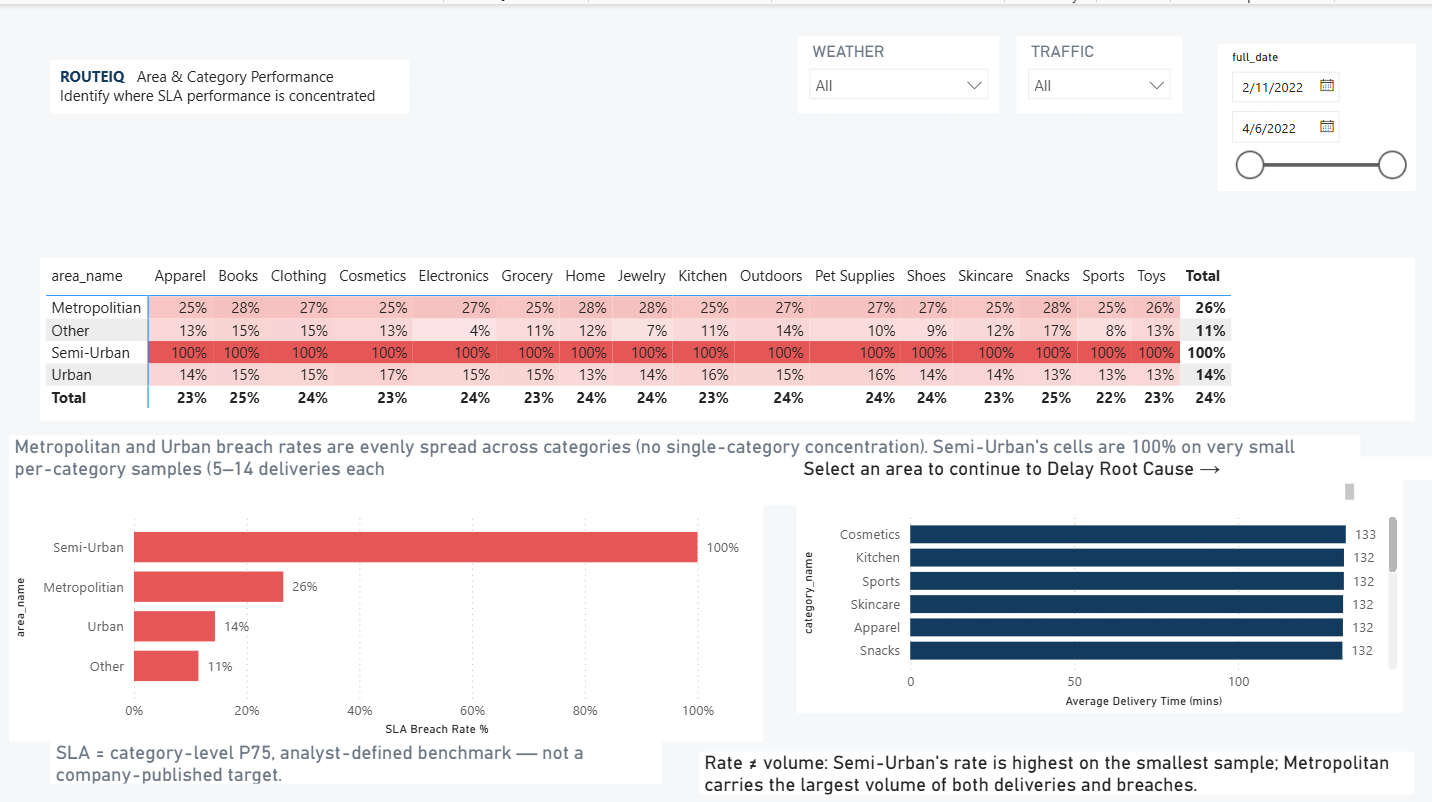

This screenshot's page, from the dashboard's own definition file:
{"tool":"powerbi","page":{"name":"Area & Category ","canvas":[1280,720],"ordinal":1},"visuals":[{"type":"textbox","box":[45.3,50,320.9,47.7],"z":0},{"type":"slicer","fields":{"Values":["DimWeatherTraffic.weather"]},"box":[714,29.1,180.2,68.6],"z":1000},{"type":"slicer","fields":{"Values":["DimWeatherTraffic.traffic"]},"box":[909.3,29.1,147.7,68.6],"z":2000},{"type":"slicer","fields":{"Values":["DimDate.full_date"]},"box":[1088.4,36,176.7,131.4],"z":3000},{"type":"pivotTable","fields":{"Columns":["DimCategory.category_name"],"Rows":["DimArea.area_name"],"Values":["FactDelivery.SLA Breach Rate %"]},"box":[37.2,226.7,1227.9,145.3],"z":4000},{"type":"clusteredBarChart","title":"WORST → BEST AREA BY SLA BREACH RATE","fields":{"Category":["DimArea.area_name"],"Y":["FactDelivery.SLA Breach Rate %"]},"box":[9.3,425.6,673.3,233.7],"z":5000},{"type":"clusteredBarChart","title":"CATEGORY BY AVERAGE DELIVERY TIME","fields":{"Category":["DimCategory.category_name"],"Y":["FactDelivery.Average Delivery Time (mins)"]},"box":[712.8,425.6,541.9,208.1],"z":6000},{"type":"textbox","title":"Metropolitan and Urban breach rates are evenly spread across categories (no single-category concentration). Semi-Urban''s cells are 100% on very small per-category samples (5–14 deliveries each","box":[9.3,384.9,1207,62.8],"z":7000},{"type":"textbox","title":"Rate ≠ volume: Semi-Urban''s rate is highest on the smallest sample; Metropolitan carries the largest volume of both deliveries and breaches.","box":[625.6,667.4,639.5,38.4],"z":8000},{"type":"textbox","title":"Select an area to continue to Delay Root Cause →","box":[714,404.7,566.3,20.9],"z":9000},{"type":"textbox","title":" SLA = category-level P75, analyst-defined benchmark — not a company-published target.","box":[45.3,659.3,546.5,37.2],"z":10000}]}

Visuals, with their boxes in screenshot pixels (x1, y1, x2, y2), scaled from the page's 1280x720 canvas onto the 1432x802 screenshot:
textbox: pyautogui.locateOnScreen(51, 56, 410, 109)
slicer - DimWeatherTraffic.weather: pyautogui.locateOnScreen(799, 32, 1000, 109)
slicer - DimWeatherTraffic.traffic: pyautogui.locateOnScreen(1017, 32, 1183, 109)
slicer - DimDate.full_date: pyautogui.locateOnScreen(1218, 40, 1415, 186)
pivotTable - DimCategory.category_name x DimArea.area_name: pyautogui.locateOnScreen(42, 253, 1415, 414)
"WORST → BEST AREA BY SLA BREACH RATE" clusteredBarChart: pyautogui.locateOnScreen(10, 474, 764, 734)
"CATEGORY BY AVERAGE DELIVERY TIME" clusteredBarChart: pyautogui.locateOnScreen(797, 474, 1404, 706)
"Metropolitan and Urban breach rates are evenly spread across categories (no single-category concentration). Semi-Urban''s cells are 100% on very small per-category samples (5–14 deliveries each" textbox: pyautogui.locateOnScreen(10, 429, 1361, 499)
"Rate ≠ volume: Semi-Urban''s rate is highest on the smallest sample; Metropolitan carries the largest volume of both deliveries and breaches." textbox: pyautogui.locateOnScreen(700, 743, 1415, 786)
"Select an area to continue to Delay Root Cause →" textbox: pyautogui.locateOnScreen(799, 451, 1431, 474)
" SLA = category-level P75, analyst-defined benchmark — not a company-published target." textbox: pyautogui.locateOnScreen(51, 734, 662, 776)
